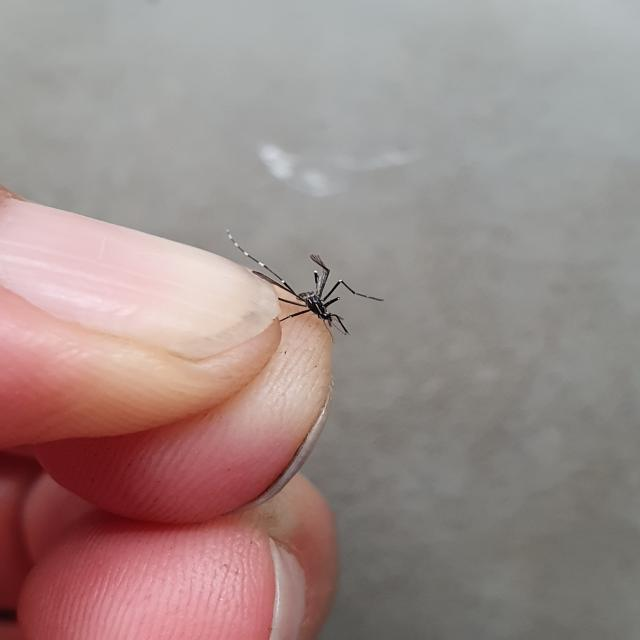albopictus: (216, 221, 389, 340)
